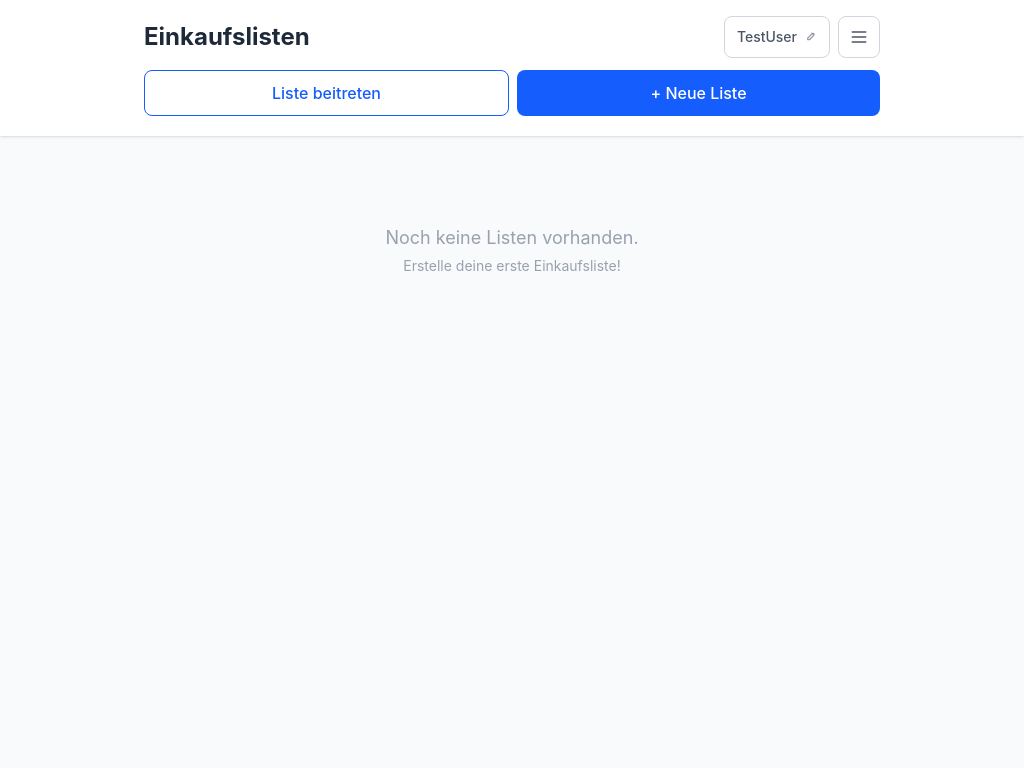
Test: Benutzername ändern › schließt das Modal beim Klick auf Abbrechen ohne Änderung
Click the button with test id "rename-username-btn". click: (777, 37)
box: [724,16,830,58]
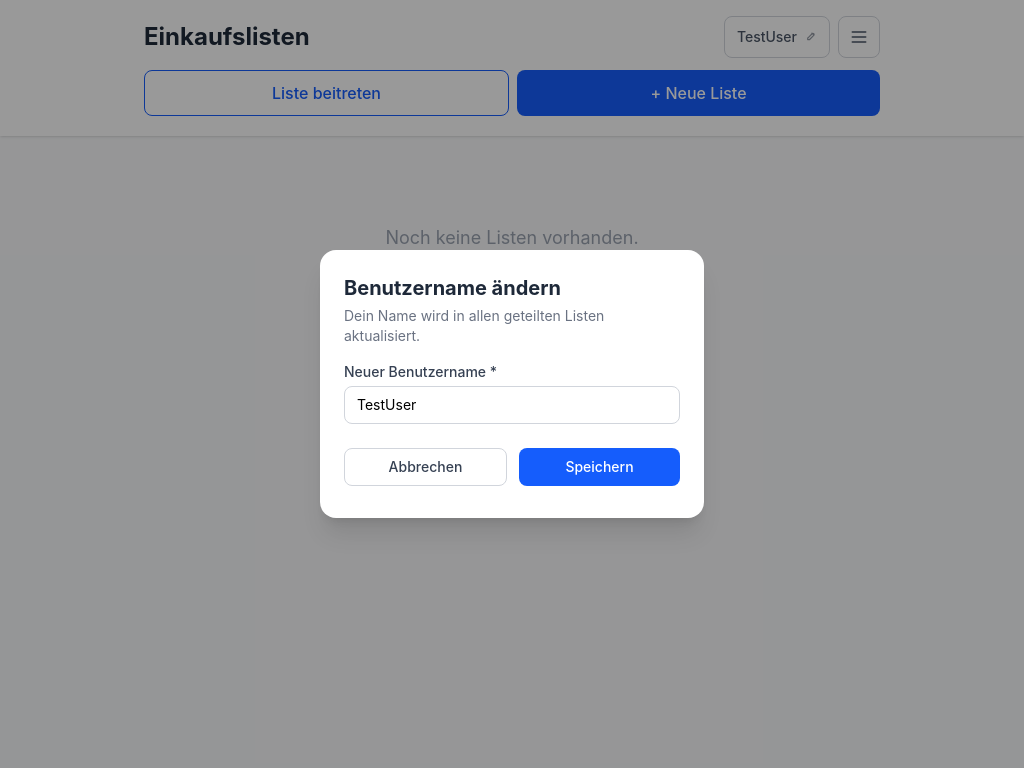
Replace the text in the field with test id "rename-input" with "SollNichtGespeichertWerden". click: (512, 405)
box: [344,386,680,424]
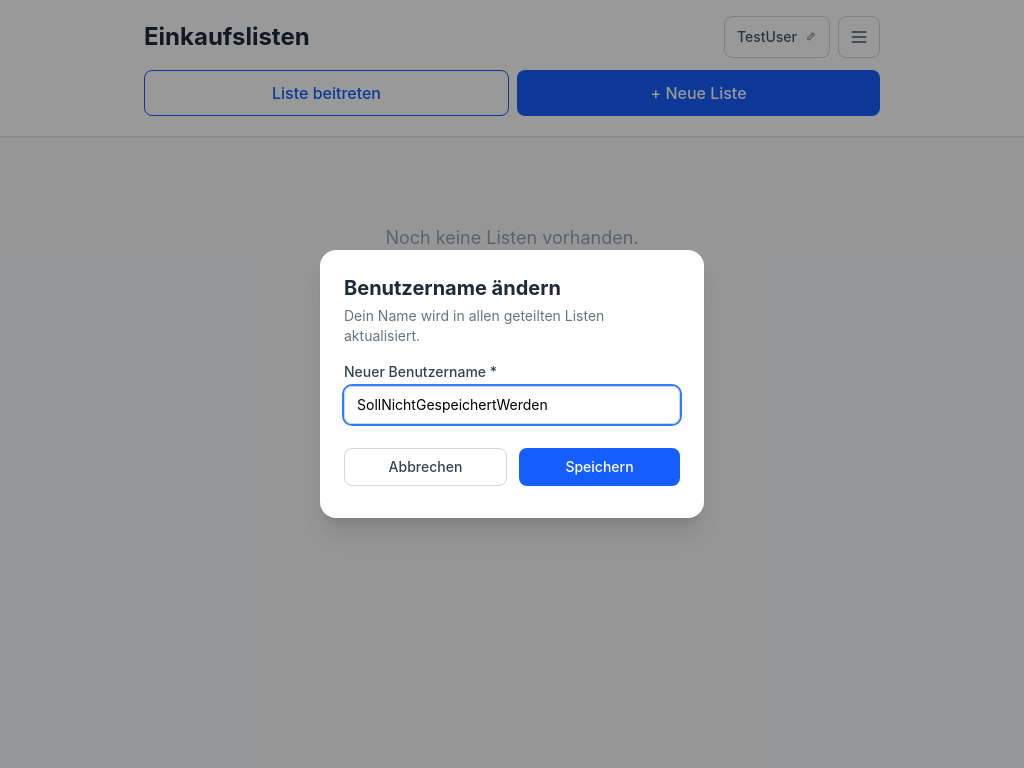
Click the button "Abbrechen". click: (426, 467)
box: [344,448,507,486]
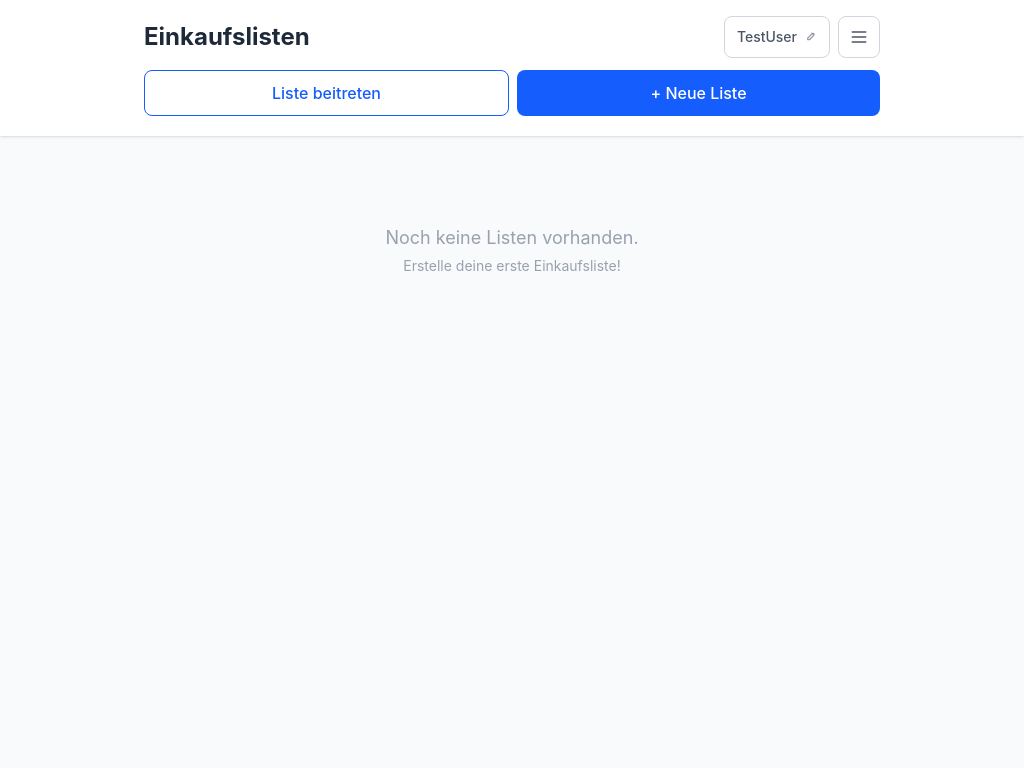
Check: the text with test id "rename-username-btn" reads "TestUser", box [737,28,797,45]
Check: the element with test id "rename-modal" is gone
